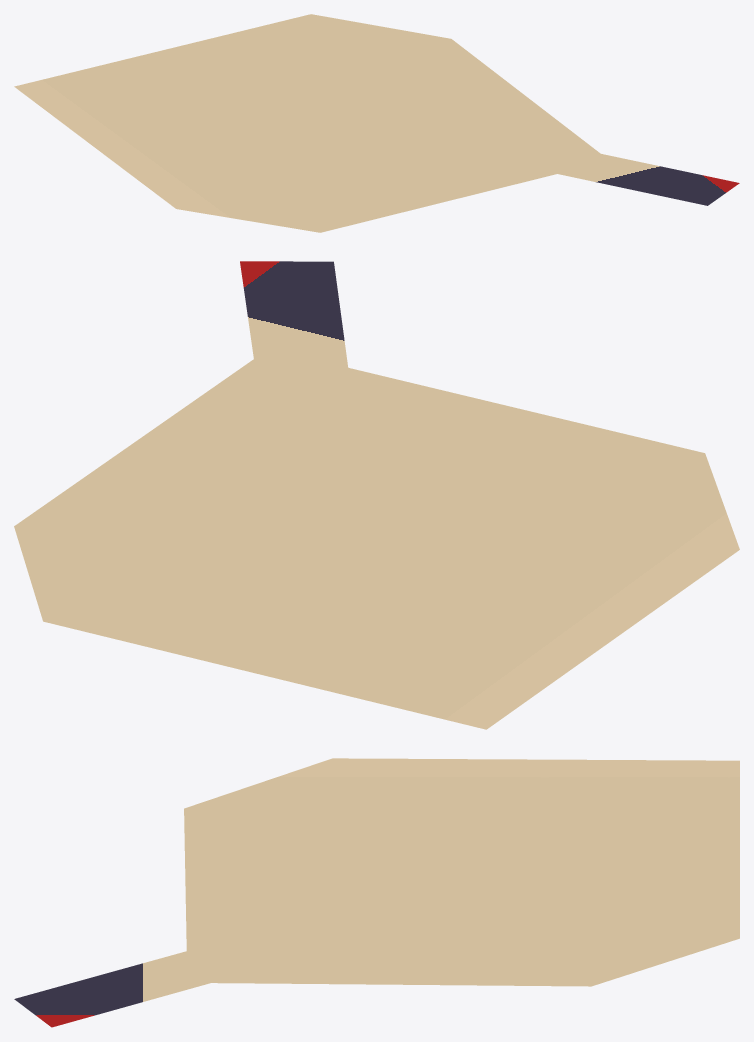
Rendered from west_zs06_sd.FBX.
3 renders of one model, top to bottom at view 1: azimuth 30°, elevation 25°; view 2: azimuth 150°, elevation 25°; view 3: azimuth 270°, elevation 25°, orthographic. The views are drawn at different scales.
Visible parts, largest first — view 1: west_zs06_sd; view 2: west_zs06_sd; view 3: west_zs06_sd.
Part boxes in pixels (bbox=[...]): west_zs06_sd: bbox=[14, 14, 739, 232]; west_zs06_sd: bbox=[14, 261, 739, 729]; west_zs06_sd: bbox=[14, 758, 739, 1027].
Bounding box in the file's own units: 3206 × 0.000319 × 3654.
